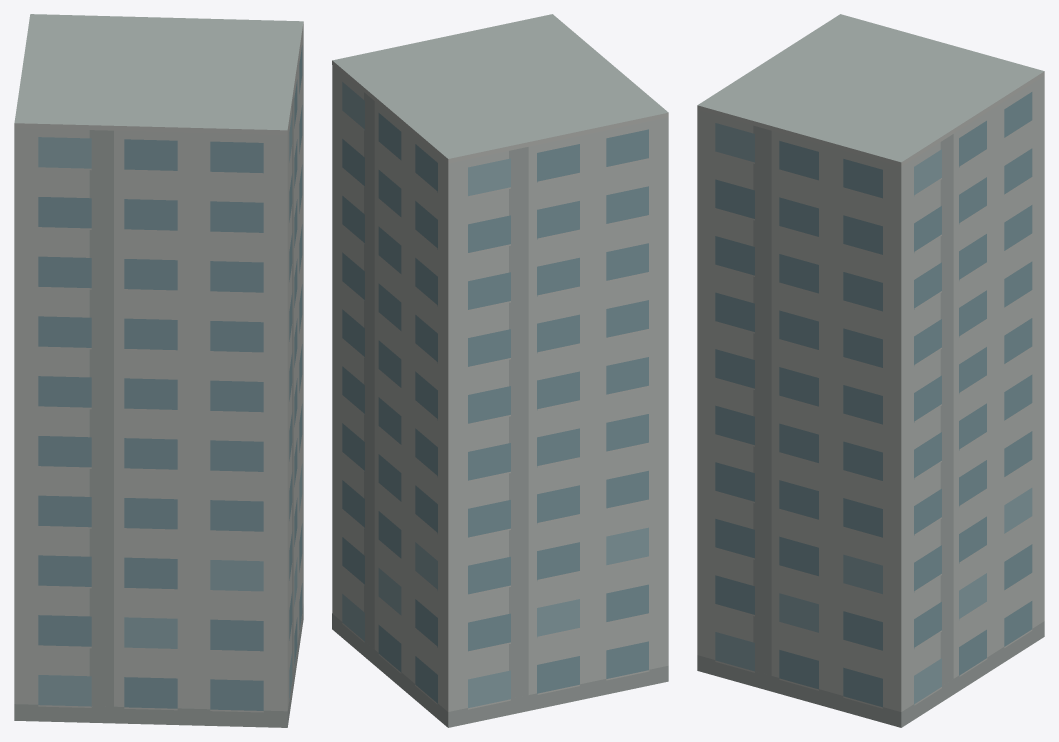
File: residential-b587e893-404c-4dee-ae8c-715431f7bdfb.glb
3 renders of one model, left to right at view 1: azimuth 30°, elevation 25°; view 2: azimuth 150°, elevation 25°; view 3: azimuth 270°, elevation 25°, orthographic. The views are drawn at different scales.
Visible parts, largest first — view 1: residential-b587e893-404c-4dee-ae8c-715431f7bdfb.tmp; view 2: residential-b587e893-404c-4dee-ae8c-715431f7bdfb.tmp; view 3: residential-b587e893-404c-4dee-ae8c-715431f7bdfb.tmp.
Part boxes in pixels (box(x1,y1,x2,y2)): residential-b587e893-404c-4dee-ae8c-715431f7bdfb.tmp: box(14, 14, 303, 727); residential-b587e893-404c-4dee-ae8c-715431f7bdfb.tmp: box(332, 14, 668, 727); residential-b587e893-404c-4dee-ae8c-715431f7bdfb.tmp: box(697, 14, 1044, 727).
Bounding box in the file's own units: 16.89 × 30 × 16.71.
